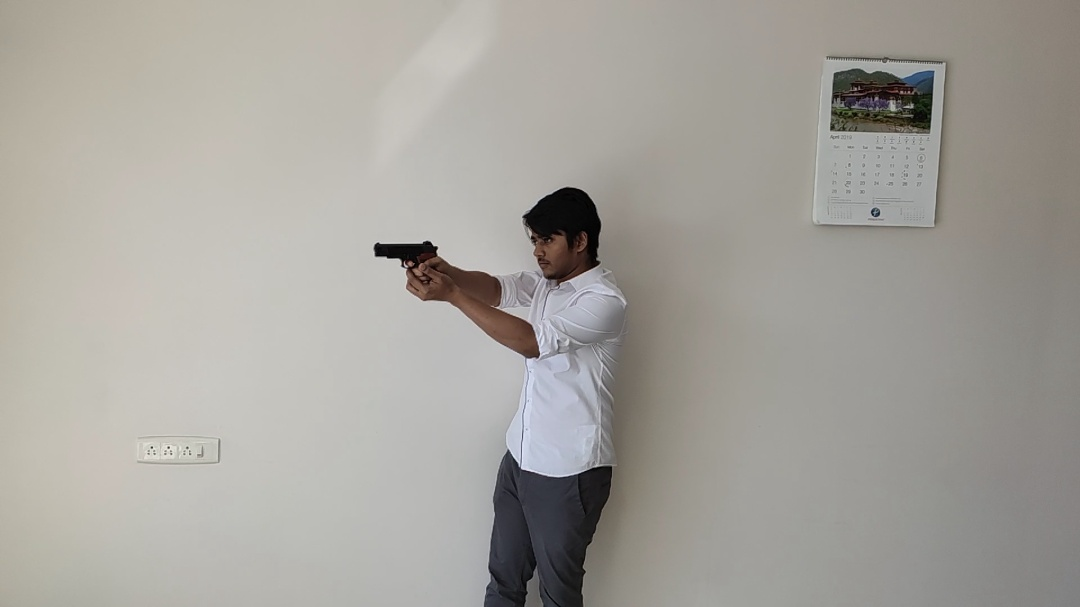gun: (373, 240, 439, 282)
